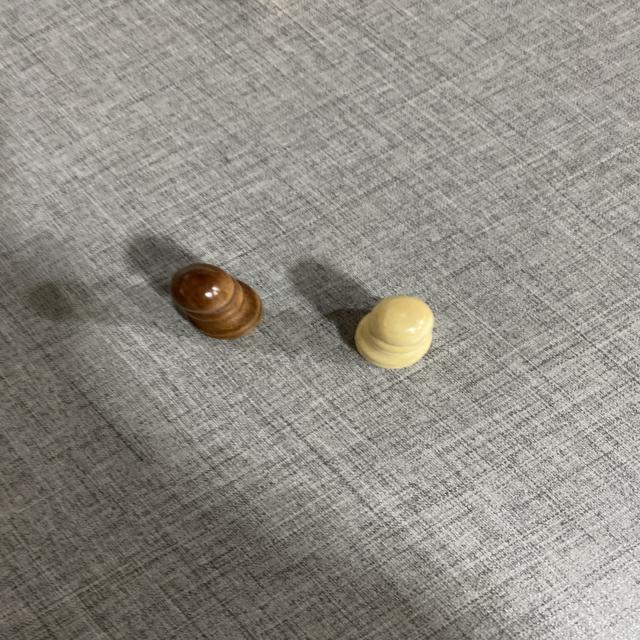Black-Pawn: (169, 264, 265, 343)
White-Pawn: (354, 293, 439, 371)
